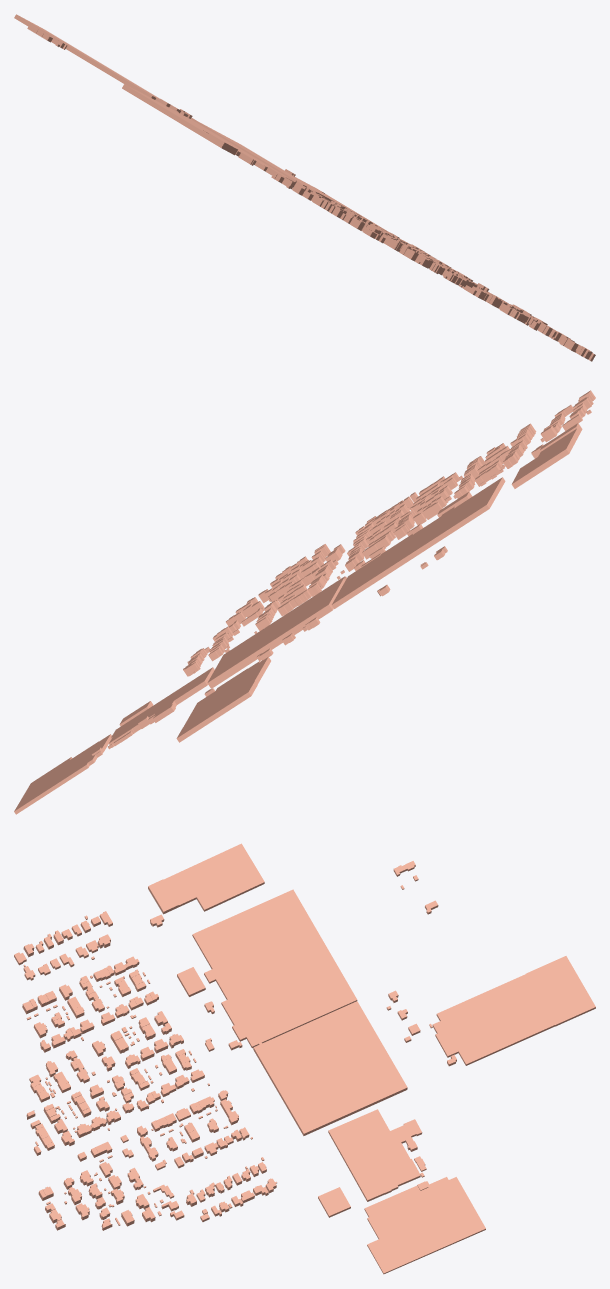
The picture shows the model from 3 angles, top to bottom: view 1: azimuth 30°, elevation 25°; view 2: azimuth 150°, elevation 25°; view 3: azimuth 270°, elevation 25°; orthographic projection. The views are drawn at different scales.
Bounding box in the file's own units: 526 × 424 × 815.
